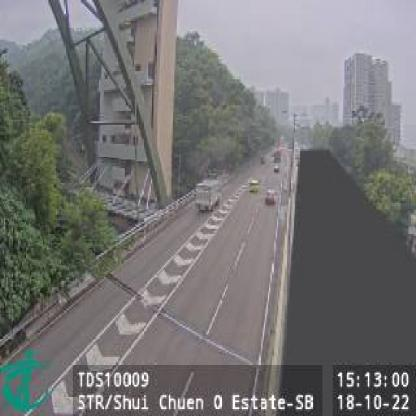Car: (247, 176, 260, 193), (264, 190, 276, 207)
Truck: (195, 178, 223, 214)
